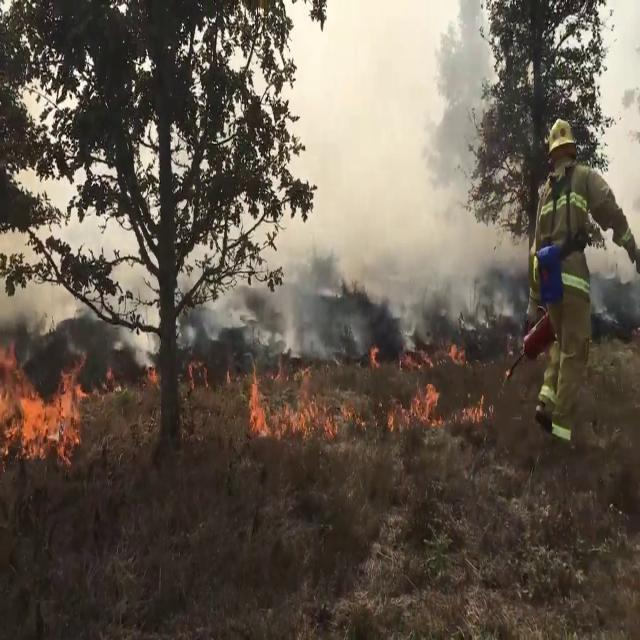Fire: (0, 341, 87, 459), (402, 364, 444, 432), (276, 396, 318, 441), (244, 358, 268, 436)
Smoke: (274, 0, 519, 332)
